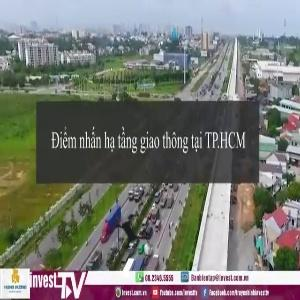drone: (100, 198, 170, 268)
